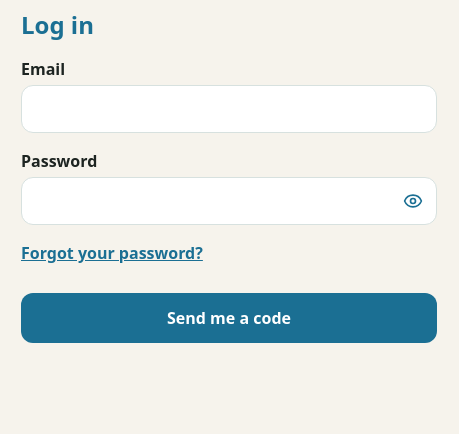
step 1: email and password › on 429 says: Too many attempts. Try again in a few minutes.
This screenshot has width=459, height=434.
Type "ada@example.com" into the field labelled "Email". click: {"x": 229, "y": 109}
box: [21,85,437,133]
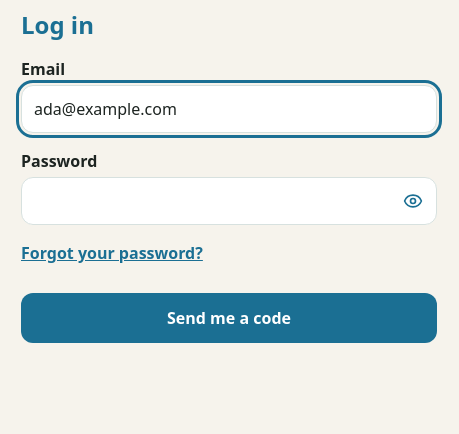
Type "a-long-password" into the password field labelled "Password". click: {"x": 229, "y": 201}
box: [21,177,437,225]
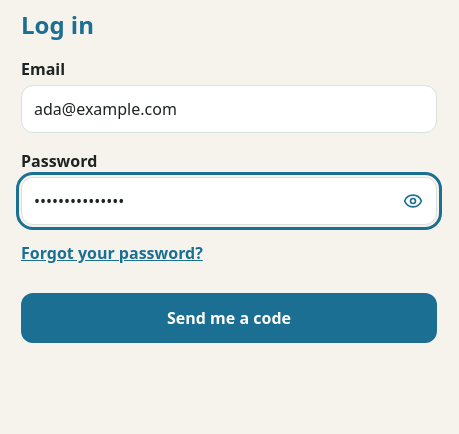
Click the button "Send me a code". click: {"x": 229, "y": 318}
box: [21,293,437,343]
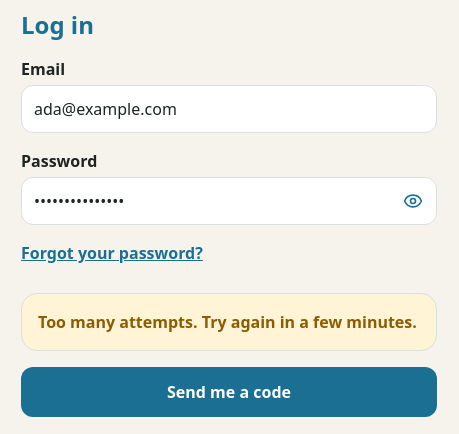
Expected: the text "Too many attempts. Try again in a few minutes." is shown, [21,293,437,351]
